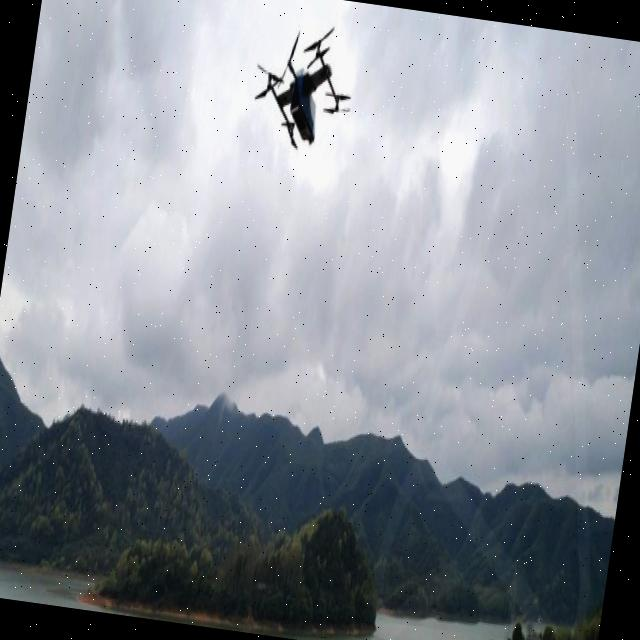drone: (245, 10, 364, 160)
